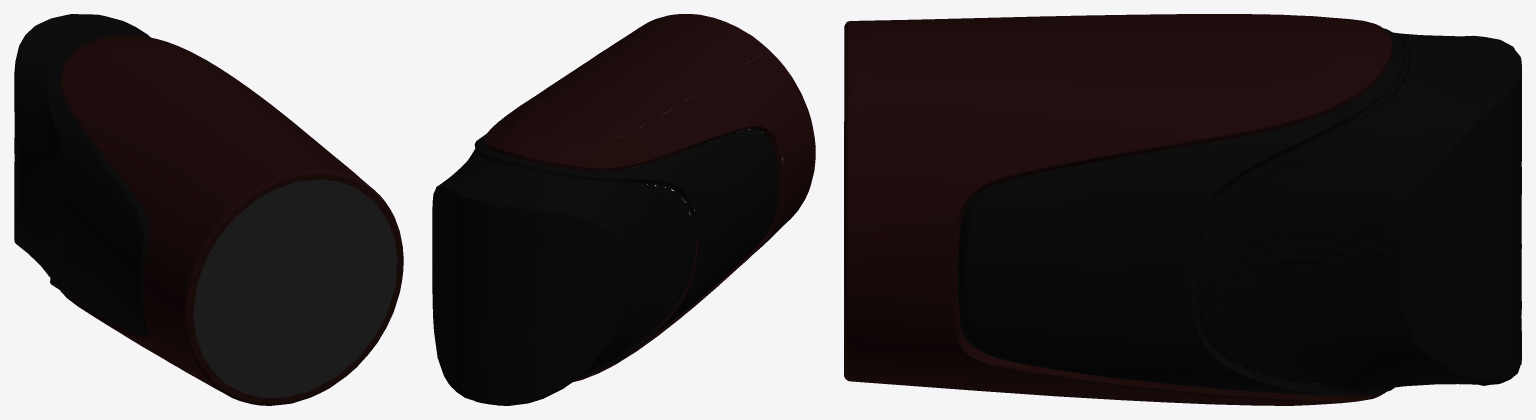
File: sim_gene01_l_upperarm.obj
The picture shows the model from 3 angles, left to right: view 1: azimuth 30°, elevation 25°; view 2: azimuth 150°, elevation 25°; view 3: azimuth 270°, elevation 25°; orthographic projection. The views are drawn at different scales.
Parts seen in each view (by area): view 1: sim_gene01_l_upperarm; view 2: sim_gene01_l_upperarm; view 3: sim_gene01_l_upperarm.
Boxes of the visible parts, bbox=[...] form: sim_gene01_l_upperarm: bbox=[14, 14, 403, 405]; sim_gene01_l_upperarm: bbox=[432, 14, 815, 405]; sim_gene01_l_upperarm: bbox=[844, 14, 1521, 405].
Size of the model in its own units: 120 by 124 by 219.
